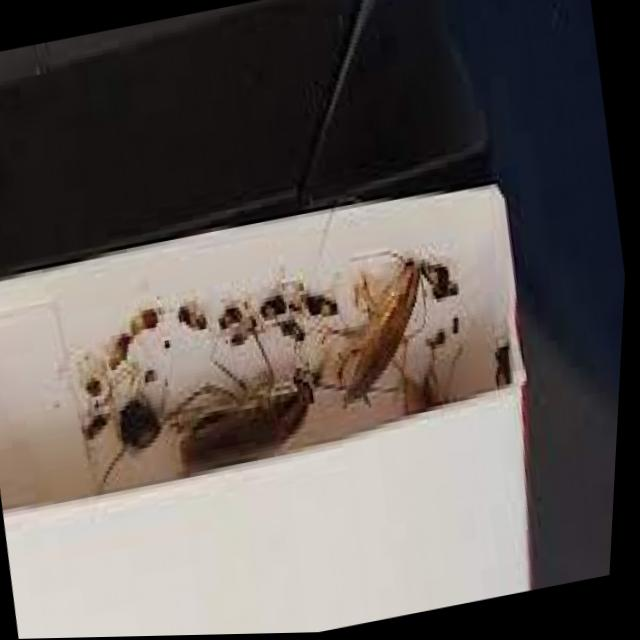Cockroach: (291, 222, 478, 443), (153, 332, 346, 508)
